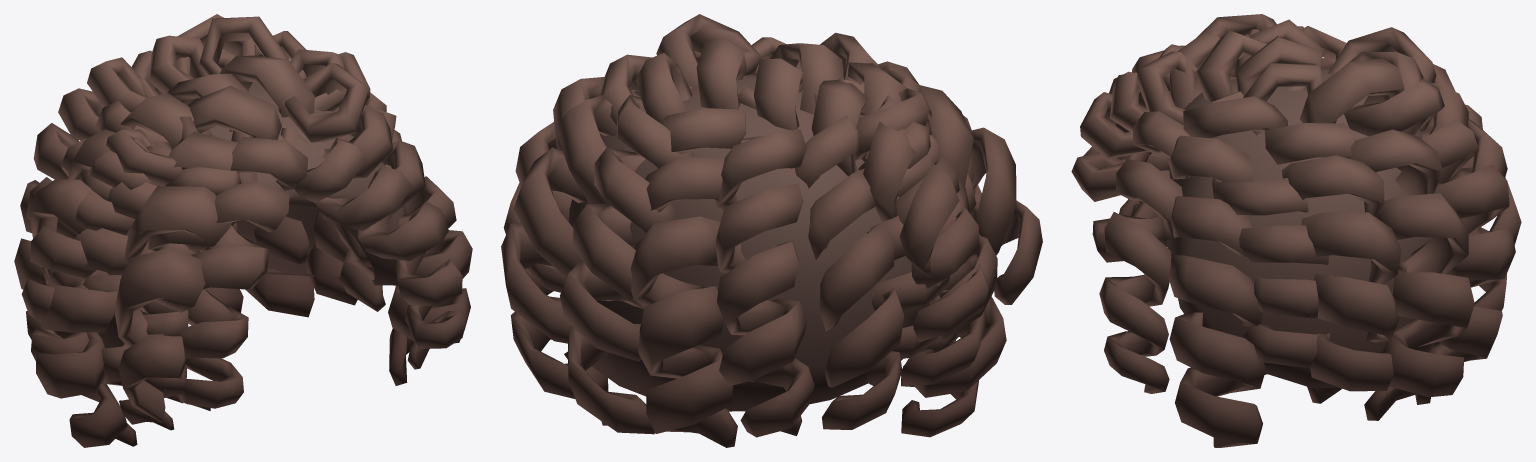
Rendered from Hairstyle_Female_10.glb.
The picture shows the model from 3 angles, left to right: view 1: azimuth 30°, elevation 25°; view 2: azimuth 150°, elevation 25°; view 3: azimuth 270°, elevation 25°; orthographic projection. The views are drawn at different scales.
Parts seen in each view (by area): view 1: Hairstyle_Female_10; view 2: Hairstyle_Female_10; view 3: Hairstyle_Female_10.
Part boxes in pixels (x1=…): Hairstyle_Female_10: x1=14, y1=14, x2=472, y2=447; Hairstyle_Female_10: x1=501, y1=14, x2=1042, y2=447; Hairstyle_Female_10: x1=1071, y1=14, x2=1521, y2=447.
Size of the model in its own units: 0.8433 by 0.6728 by 0.7805.
Materials: 1 (1 with a texture image).
